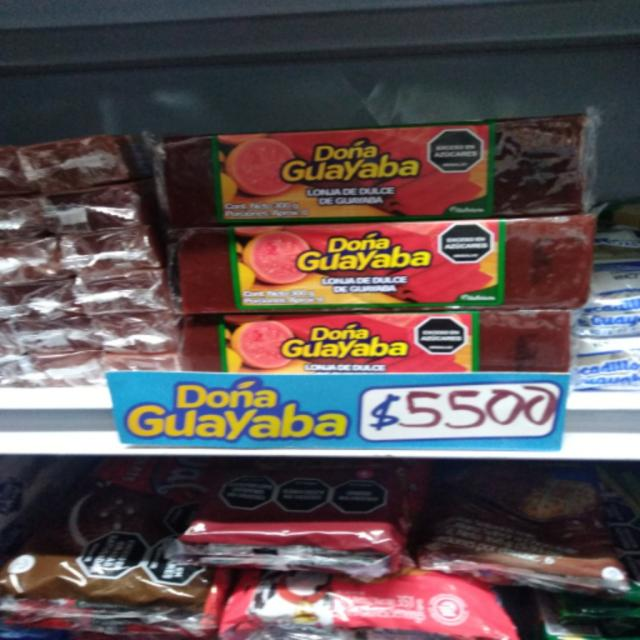Guayaba_barra: (152, 112, 601, 219), (176, 216, 598, 314), (180, 314, 574, 383)
Precio: (358, 381, 559, 441)
